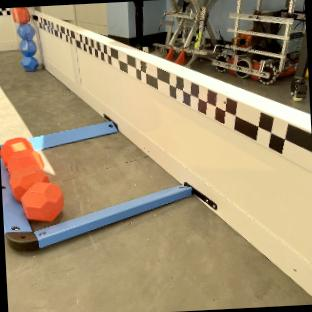Parking - Part: (0, 159, 191, 248)
V5_RED: (0, 137, 62, 220)
